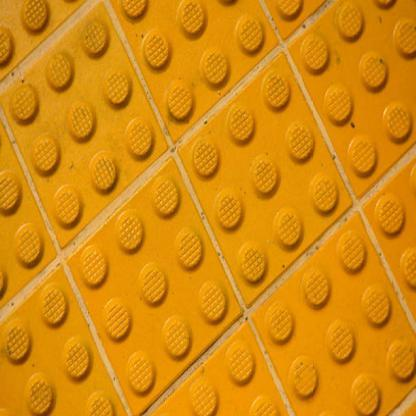podotacti: (2, 1, 415, 415)
